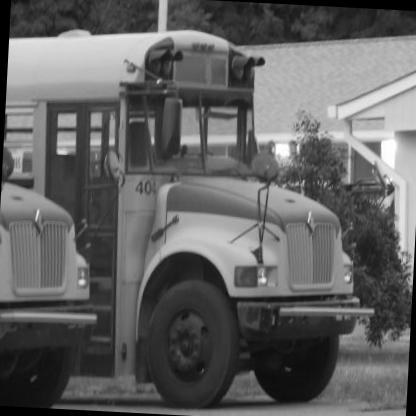bus: (1, 25, 378, 411)
